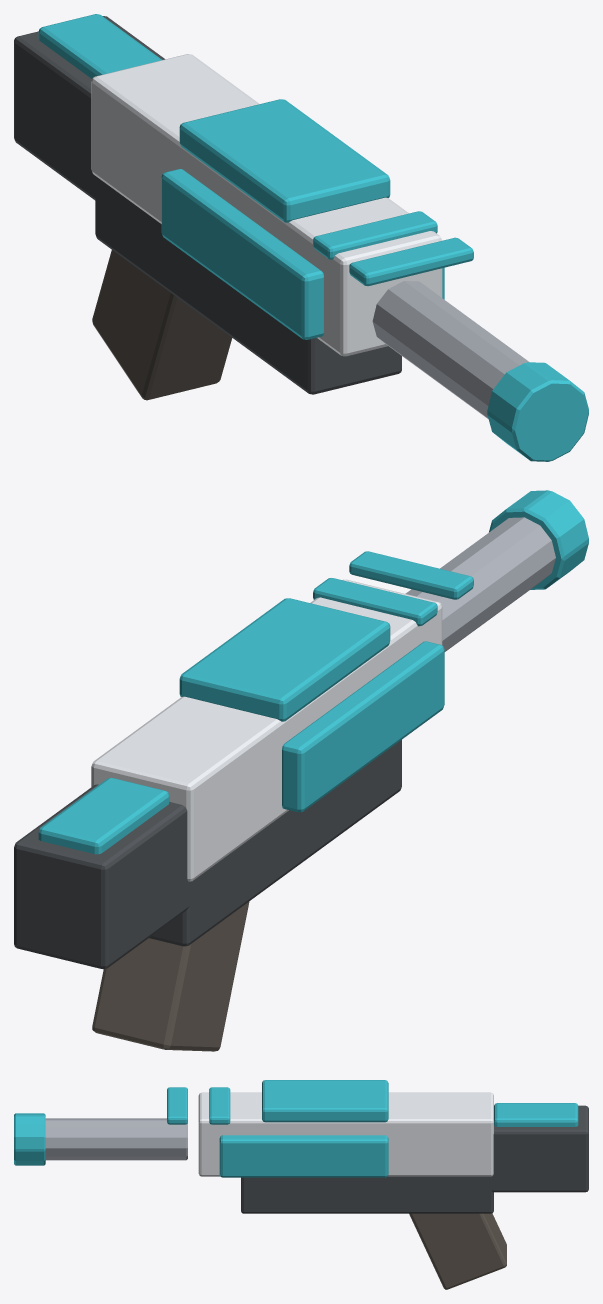
Rendered from laser.glb.
3 views of the same model, one above another, from view 1: azimuth 30°, elevation 25°; view 2: azimuth 150°, elevation 25°; view 3: azimuth 270°, elevation 25° (orthographic). The views are drawn at different scales.
Visible parts, largest first — view 1: Body, Panel, Dark, SideL, Grip, Emitter, Pack, Tip, Core, Vent2, Vent1; view 2: Body, Pack, Panel, Grip, SideL, Dark, Emitter, Core, Tip, Vent2, Vent1; view 3: Body, Dark, SideR, Pack, Emitter, Panel, Grip, Core, Tip, Vent1, Vent2.
Part boxes in pixels (x1=…): Body: x1=91, y1=54, x2=442, y2=356; Panel: x1=179, y1=99, x2=390, y2=222; Dark: x1=95, y1=176, x2=401, y2=394; SideL: x1=161, y1=169, x2=323, y2=339; Grip: x1=92, y1=250, x2=231, y2=400; Emitter: x1=372, y1=281, x2=529, y2=418; Pack: x1=14, y1=16, x2=164, y2=200; Tip: x1=487, y1=362, x2=588, y2=461; Core: x1=38, y1=14, x2=161, y2=78; Vent2: x1=349, y1=237, x2=473, y2=286; Vent1: x1=313, y1=211, x2=437, y2=259; Body: x1=91, y1=579, x2=442, y2=881; Pack: x1=14, y1=784, x2=193, y2=969; Panel: x1=179, y1=598, x2=390, y2=721; Grip: x1=92, y1=902, x2=249, y2=1051; SideL: x1=282, y1=641, x2=444, y2=812; Dark: x1=149, y1=740, x2=401, y2=946; Emitter: x1=405, y1=517, x2=555, y2=651; Core: x1=38, y1=778, x2=169, y2=854; Tip: x1=489, y1=490, x2=588, y2=589; Vent2: x1=349, y1=551, x2=473, y2=599; Vent1: x1=313, y1=578, x2=437, y2=626; Body: x1=198, y1=1092, x2=493, y2=1176; Dark: x1=241, y1=1176, x2=493, y2=1213; SideR: x1=219, y1=1135, x2=388, y2=1177; Pack: x1=486, y1=1105, x2=588, y2=1192; Emitter: x1=45, y1=1118, x2=187, y2=1160; Panel: x1=262, y1=1080, x2=388, y2=1122; Grip: x1=409, y1=1213, x2=506, y2=1289; Core: x1=494, y1=1103, x2=578, y2=1126; Tip: x1=14, y1=1113, x2=45, y2=1165; Vent1: x1=209, y1=1087, x2=230, y2=1124; Vent2: x1=167, y1=1087, x2=187, y2=1124.
Size of the model in its own units: 0.091 by 0.1943 by 0.545.
